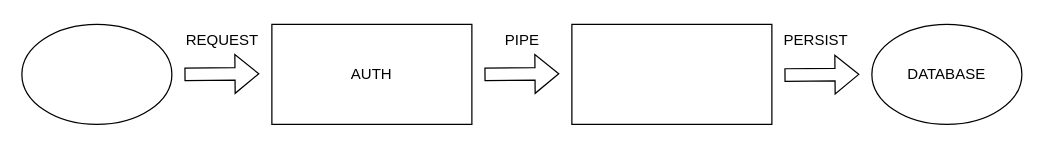
Image size: 1044x146. Some labels were removed from this diagram. Each missing label, with the box of its shape:
INPUT: (21, 23, 172, 124)
REST: (571, 23, 772, 124)
